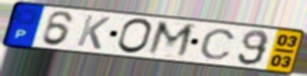6: (40, 10, 75, 48)
9: (236, 29, 271, 68)
C: (198, 28, 238, 61)
K: (74, 13, 112, 51)
M: (145, 19, 198, 61)
O: (115, 17, 155, 55)
